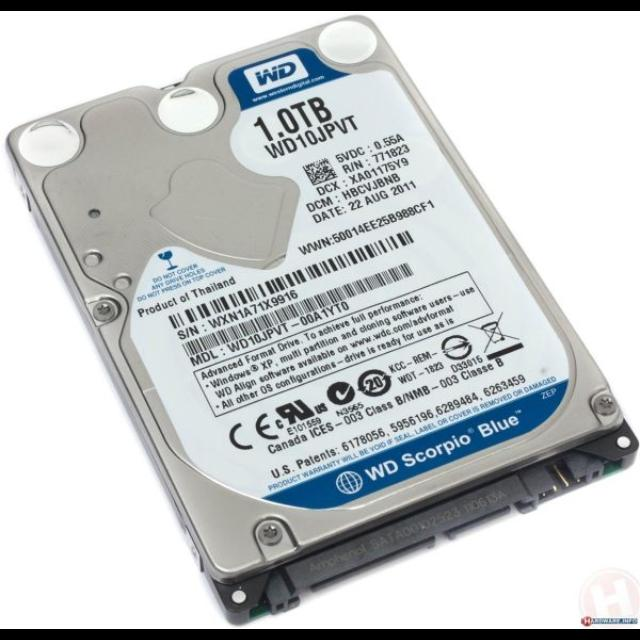HDD: (6, 15, 640, 628)
